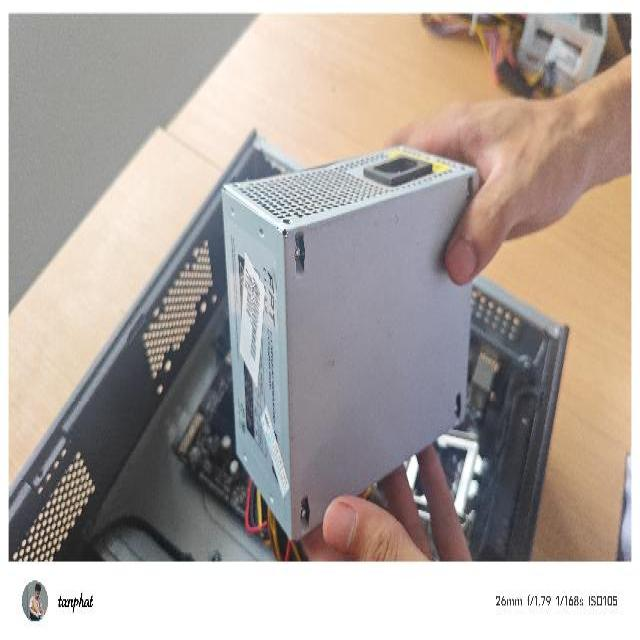PSU: (215, 141, 481, 537)
